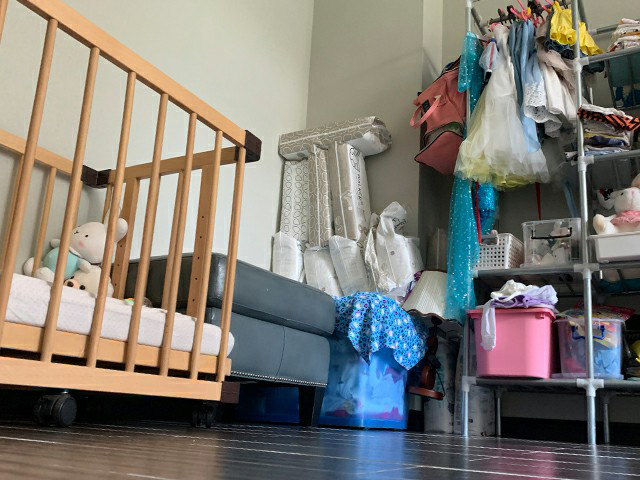stool: (113, 252, 337, 427)
